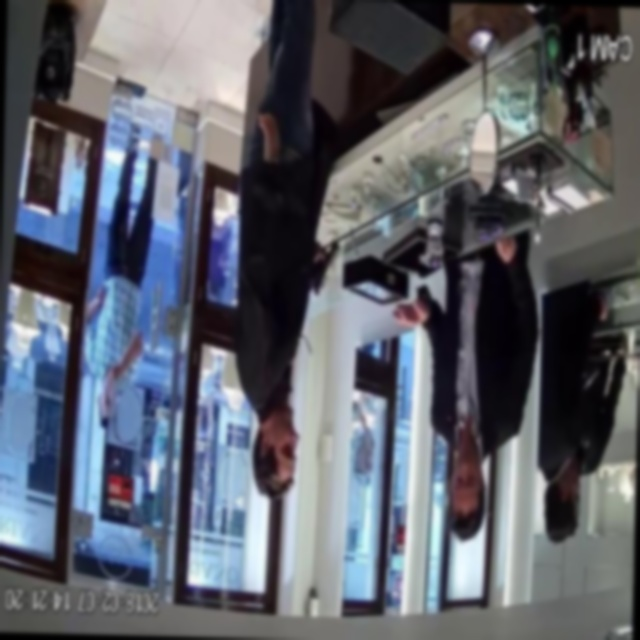gun: (304, 221, 345, 310)
